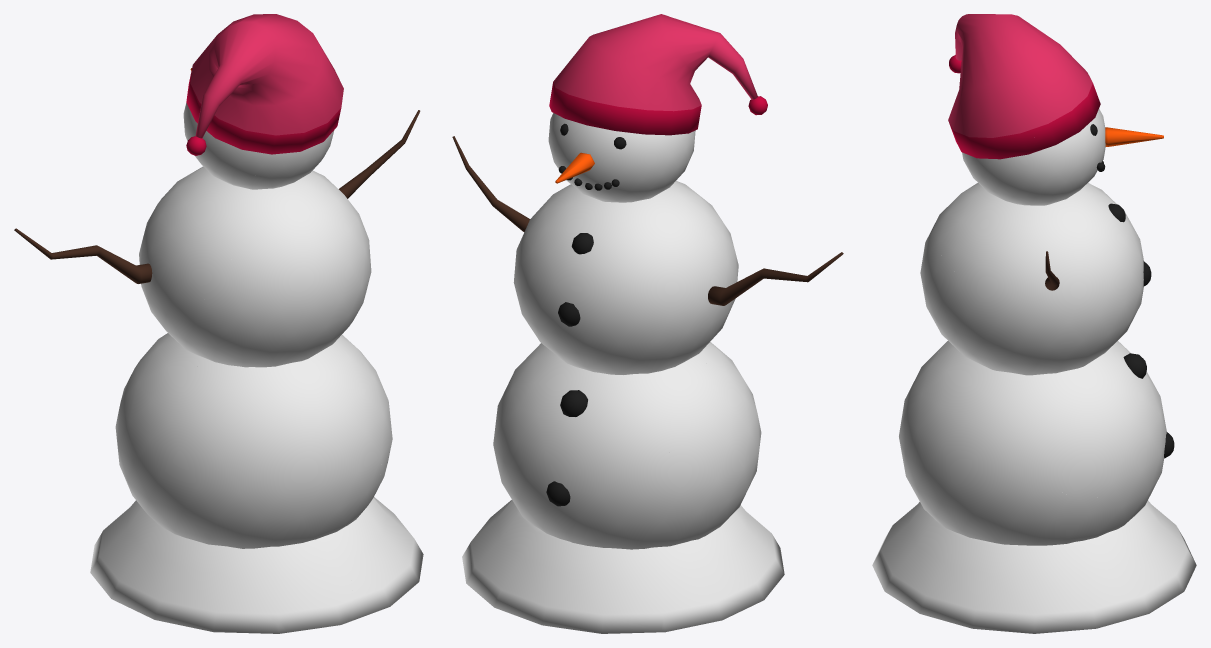
The model's file is snowman_rootss66.fbx.
3 renders of one model, left to right at view 1: azimuth 30°, elevation 25°; view 2: azimuth 150°, elevation 25°; view 3: azimuth 270°, elevation 25°, orthographic. The views are drawn at different scales.
Parts seen in each view (by area): view 1: snowman_sh_8, snowman_sh_49, snowman_sh_34, snowman_sh_16, snowman_sh_11, snowman_sh_48, snowman_sh_15, snowman_sh_3, snowman_sh_23, snowman_sh_47, snowman_sh_14, snowman_sh_36 (+11 smaller); view 2: snowman_sh_16, snowman_sh_9, snowman_sh_50, snowman_sh_8, snowman_sh_36, snowman_sh_25, snowman_sh_10, snowman_sh_6, snowman_sh_45, snowman_sh_22, snowman_sh_34, snowman_sh_51 (+15 smaller); view 3: snowman_sh_47, snowman_sh_2, snowman_sh_15, snowman_sh_34, snowman_sh_11, snowman_sh_17, snowman_sh_1, snowman_sh_9, snowman_sh_46, snowman_sh_26, snowman_sh_23, snowman_sh_51 (+16 smaller).
Boxes of the visible parts, x1,y1,x2,y2 form: snowman_sh_8: (115, 370, 383, 548); snowman_sh_49: (127, 505, 353, 632); snowman_sh_34: (211, 14, 340, 145); snowman_sh_16: (139, 166, 288, 360); snowman_sh_11: (255, 337, 389, 463); snowman_sh_48: (107, 549, 287, 633); snowman_sh_15: (219, 170, 369, 269); snowman_sh_3: (175, 362, 300, 451); snowman_sh_23: (255, 242, 371, 367); snowman_sh_47: (346, 497, 423, 620); snowman_sh_14: (188, 299, 278, 367); snowman_sh_36: (186, 14, 260, 149); snowman_sh_16: (522, 191, 738, 374); snowman_sh_9: (493, 364, 671, 514); snowman_sh_50: (491, 536, 685, 633); snowman_sh_8: (656, 369, 761, 546); snowman_sh_36: (556, 47, 701, 135); snowman_sh_25: (556, 115, 695, 200); snowman_sh_10: (553, 502, 670, 549); snowman_sh_6: (599, 351, 708, 430); snowman_sh_45: (661, 564, 756, 632); snowman_sh_22: (632, 201, 706, 271); snowman_sh_34: (566, 14, 738, 65); snowman_sh_51: (464, 521, 553, 604); snowman_sh_47: (875, 520, 1080, 633); snowman_sh_2: (979, 357, 1111, 491); snowman_sh_15: (930, 183, 1115, 295); snowman_sh_34: (948, 14, 1056, 135); snowman_sh_11: (905, 342, 1015, 481); snowman_sh_17: (983, 259, 1122, 347); snowman_sh_1: (960, 479, 1120, 545); snowman_sh_9: (1099, 341, 1166, 495); snowman_sh_46: (1017, 527, 1121, 629); snowman_sh_26: (962, 133, 1102, 205); snowman_sh_23: (920, 230, 1016, 373); snowman_sh_51: (1120, 512, 1180, 621).
Size of the model in its own units: 161 by 213 by 116.
Materials: 2 (1 with a texture image).
